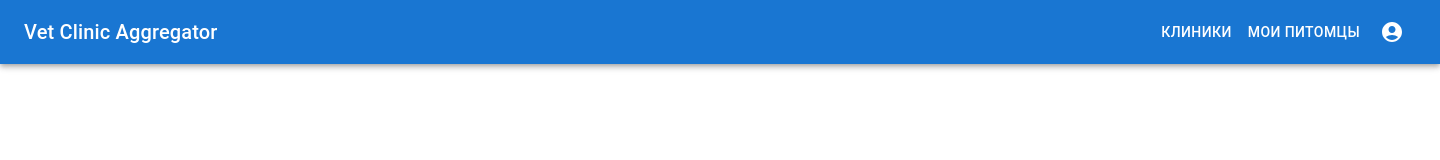
Test case: Navbar › opens user menu when clicking account icon
This screenshot has width=1440, height=160.
Click the button with test id "AccountCircleIcon" at (1392, 32), box [1368,8,1416,56]
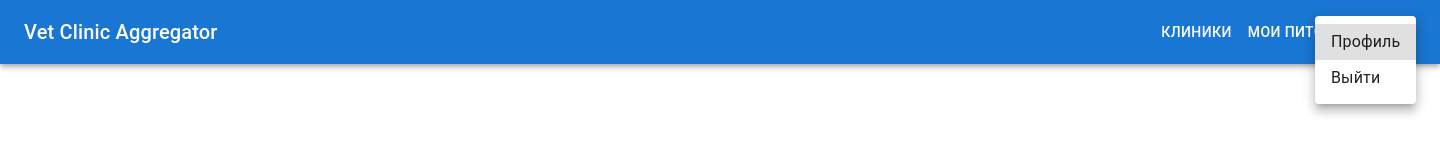
Result: the menu item "Профиль" is shown at [1315,24,1416,60]
Result: the menu item "Выйти" is shown at [1331,68,1380,87]
